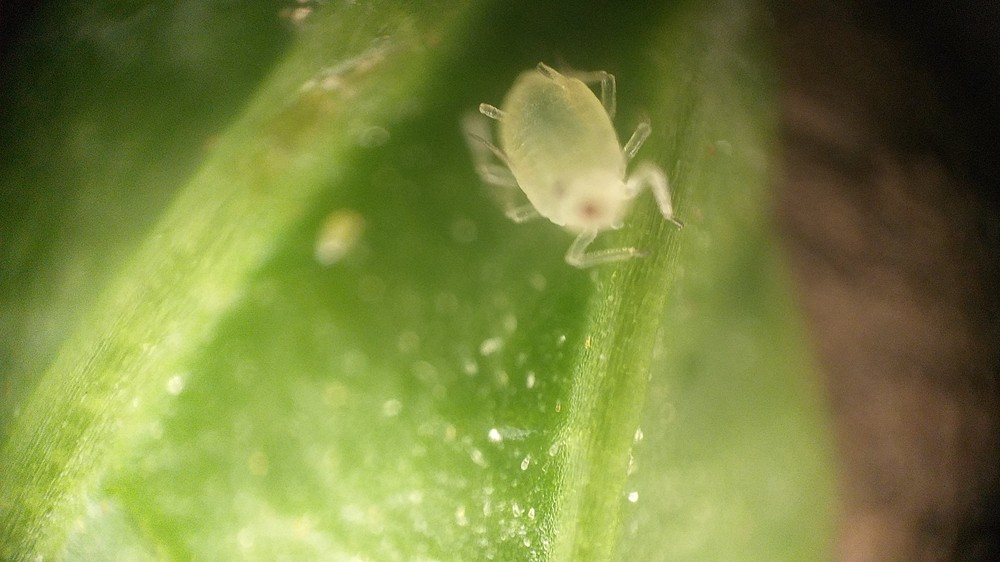Pulgon: (439, 39, 719, 295)
